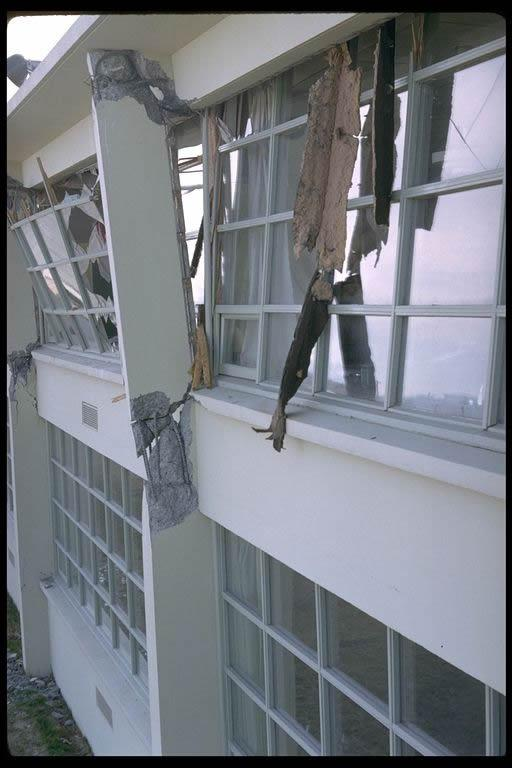spalling: (130, 390, 198, 532), (92, 50, 192, 125), (8, 342, 39, 400)
